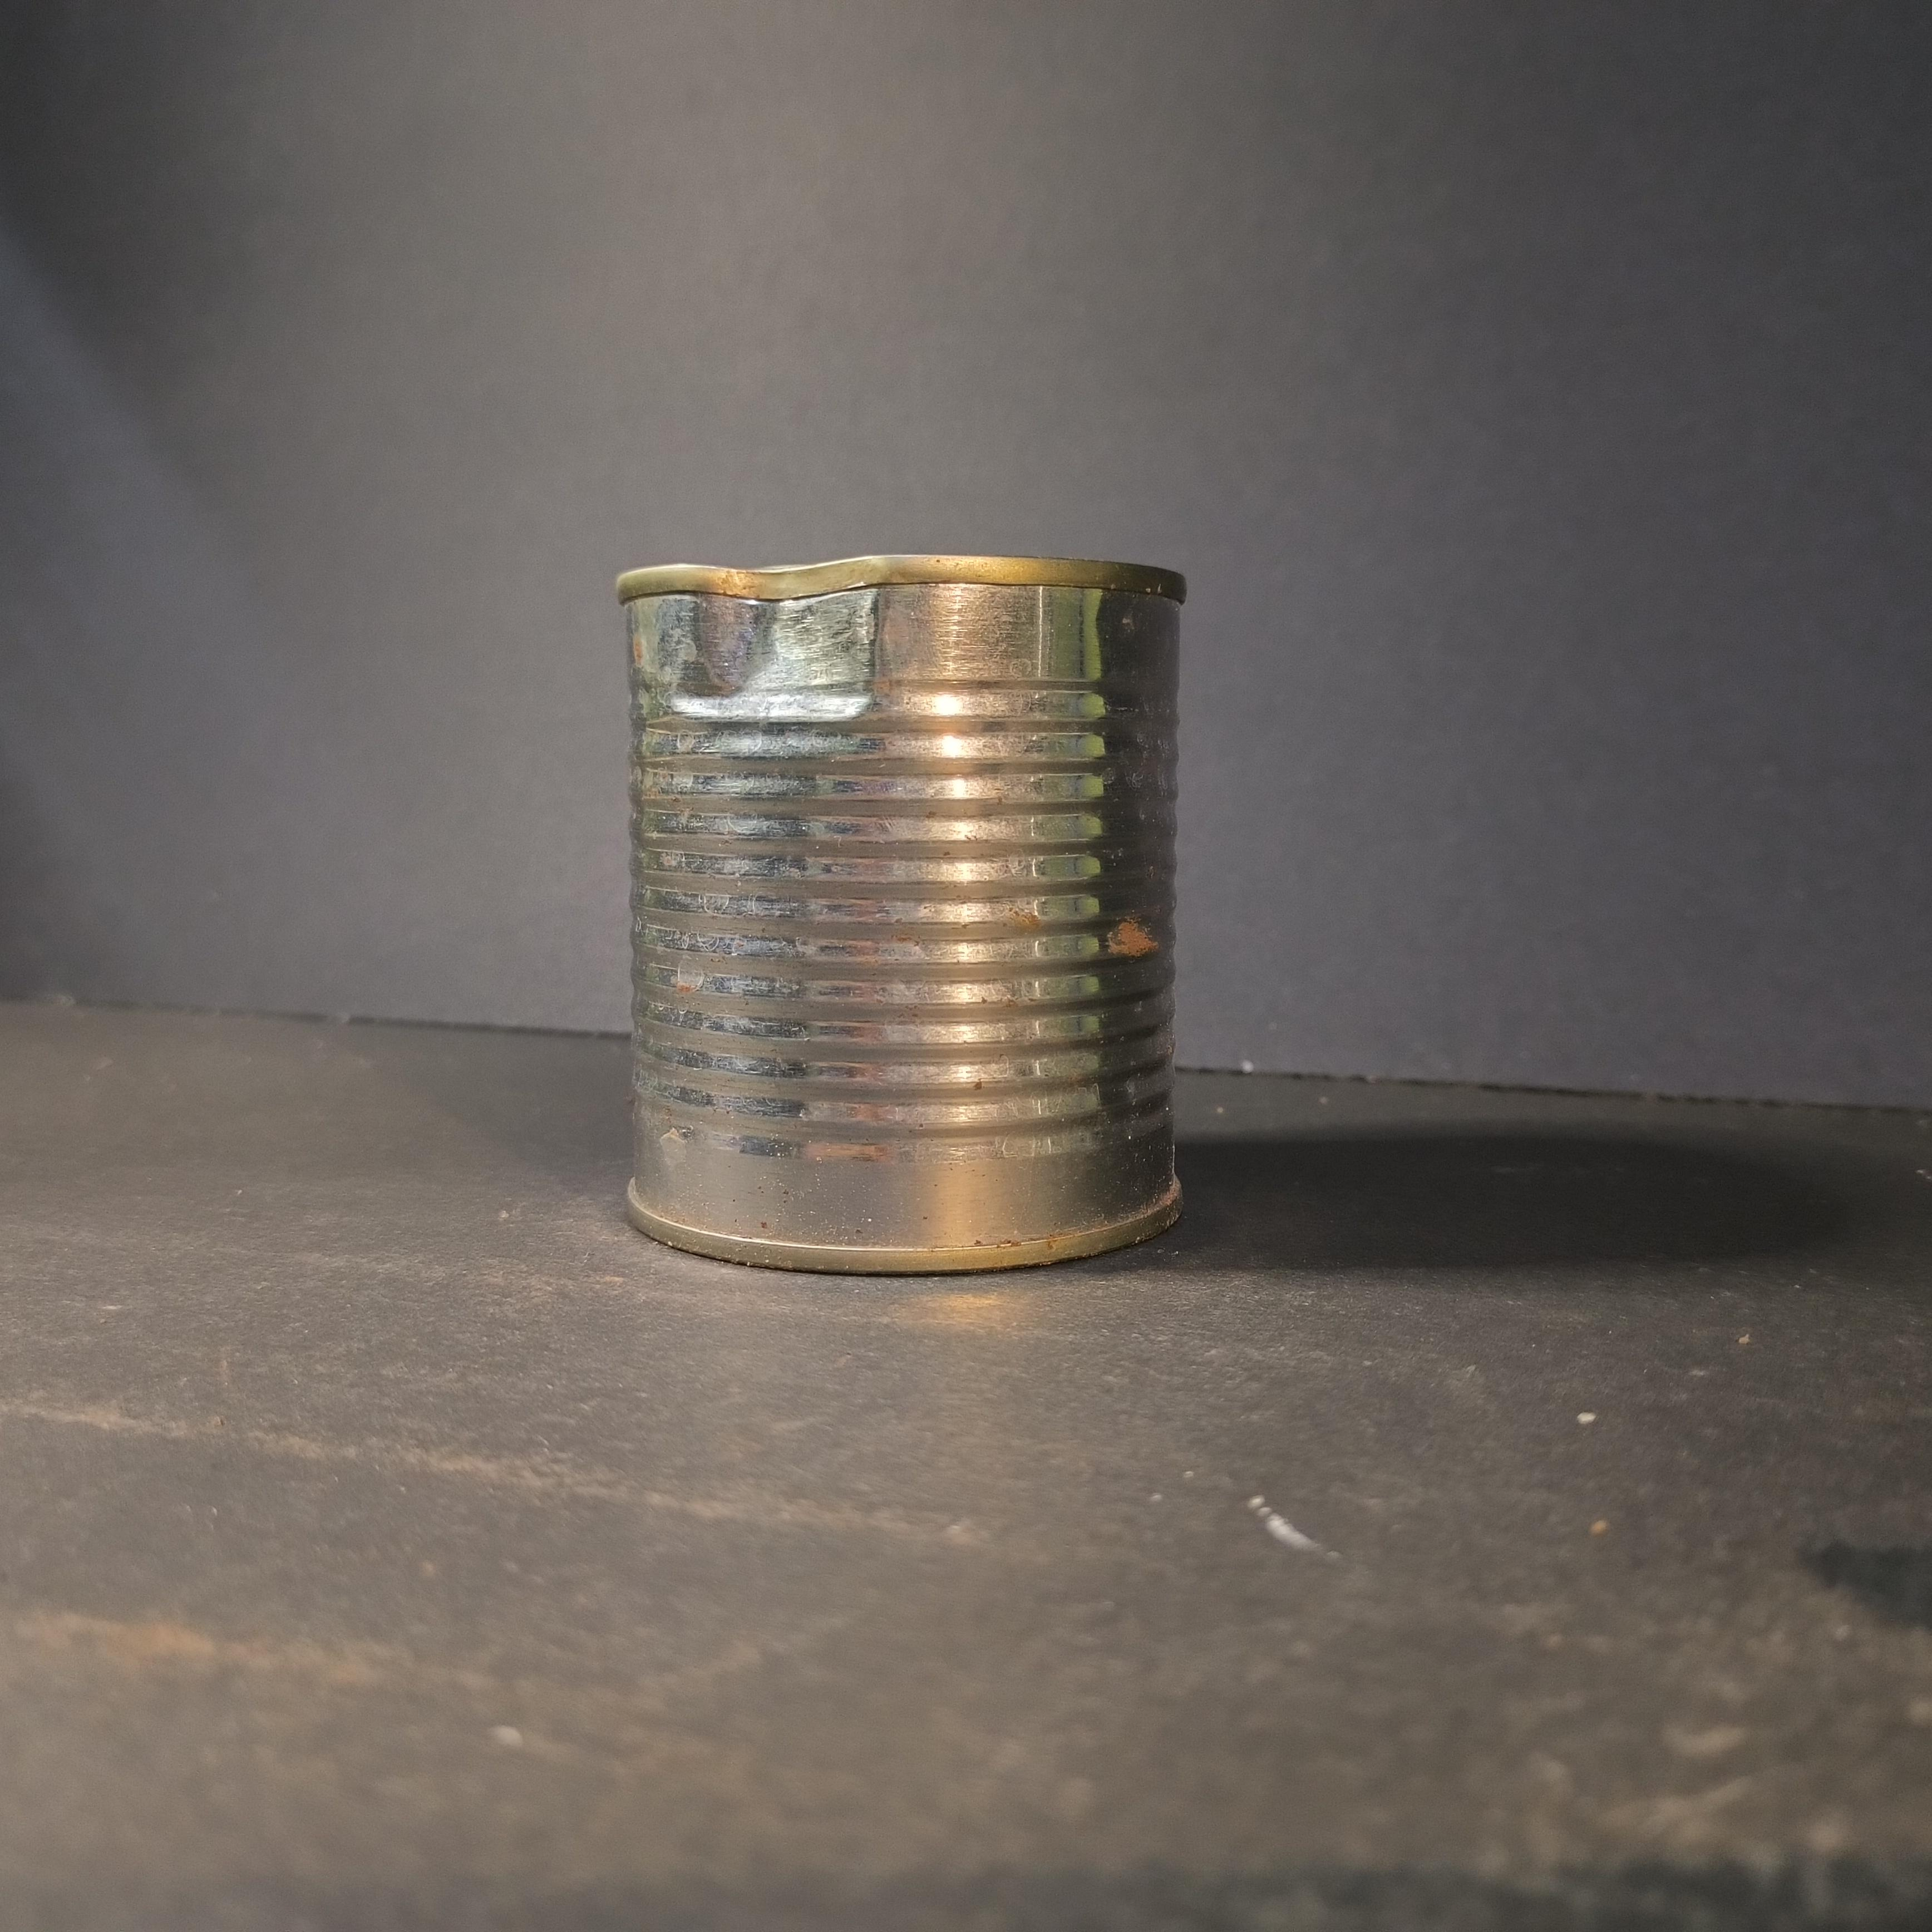Critical Defect: (614, 554, 1187, 1276)
